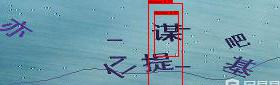chinese: (99, 52, 140, 80), (101, 55, 145, 81), (152, 20, 186, 46), (138, 52, 176, 73), (224, 56, 257, 78), (1, 16, 31, 38), (225, 30, 253, 51)
